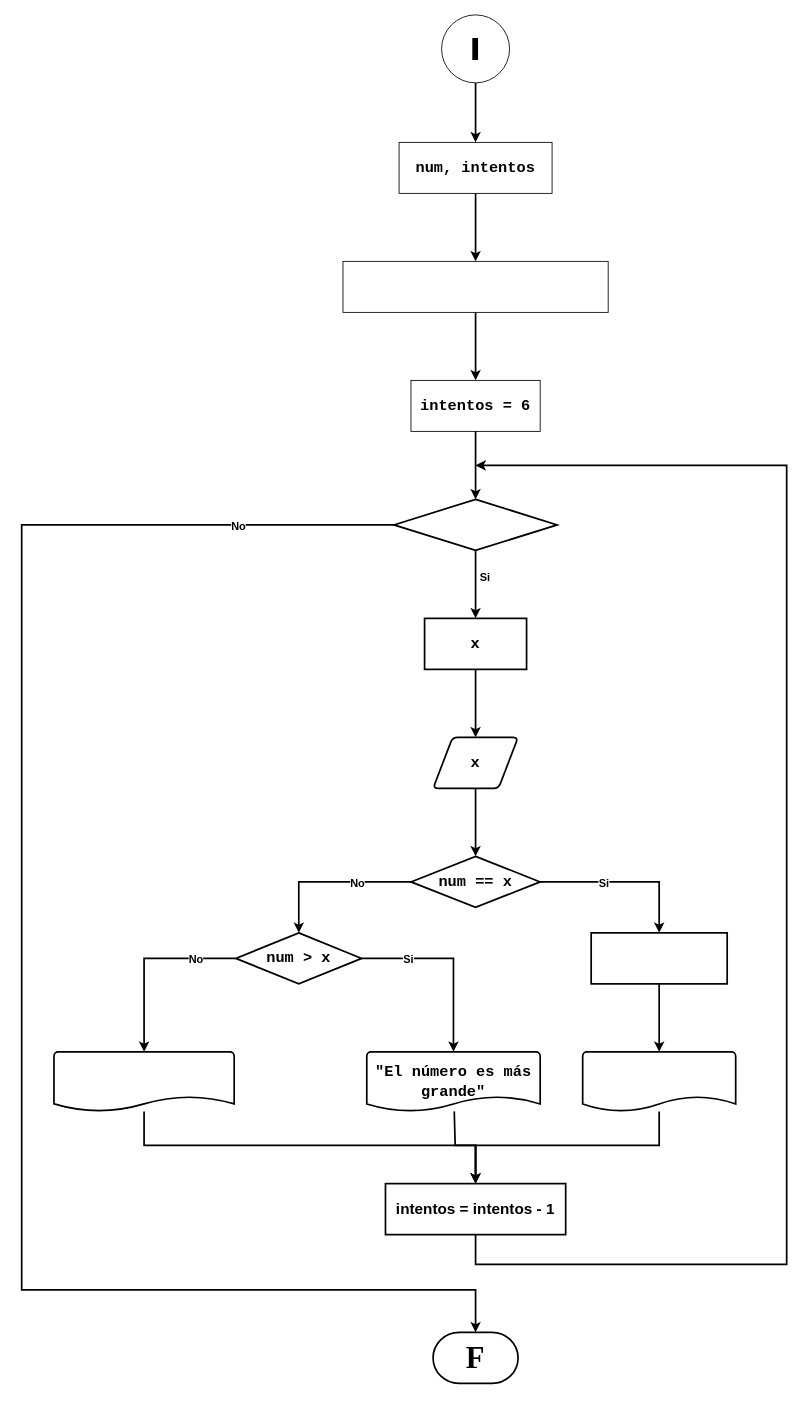
The diagram is 808 pixels wide and 1404 high, and some of its shapes have lost their labels. Here are the shapes that lost their labels. From the top down, the centre of each, then its label:
[475,286]: num = random.randint(1, 20)
[475,524]: intentos > 0
[659,958]: intentos = 0
[144,1081]: "El número es más chico"
[658,1081]: "El número es", num
